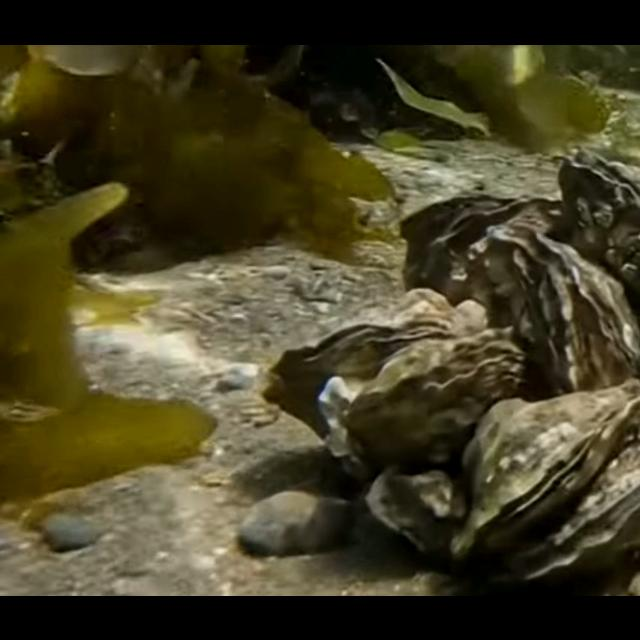Oyster-Closed: (343, 327, 525, 478), (498, 220, 640, 394)
Oyster-Open: (454, 380, 640, 560), (268, 306, 454, 436), (400, 195, 562, 312), (512, 440, 640, 580), (556, 146, 640, 322)
